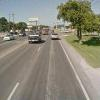Tree: (54, 1, 100, 41)
